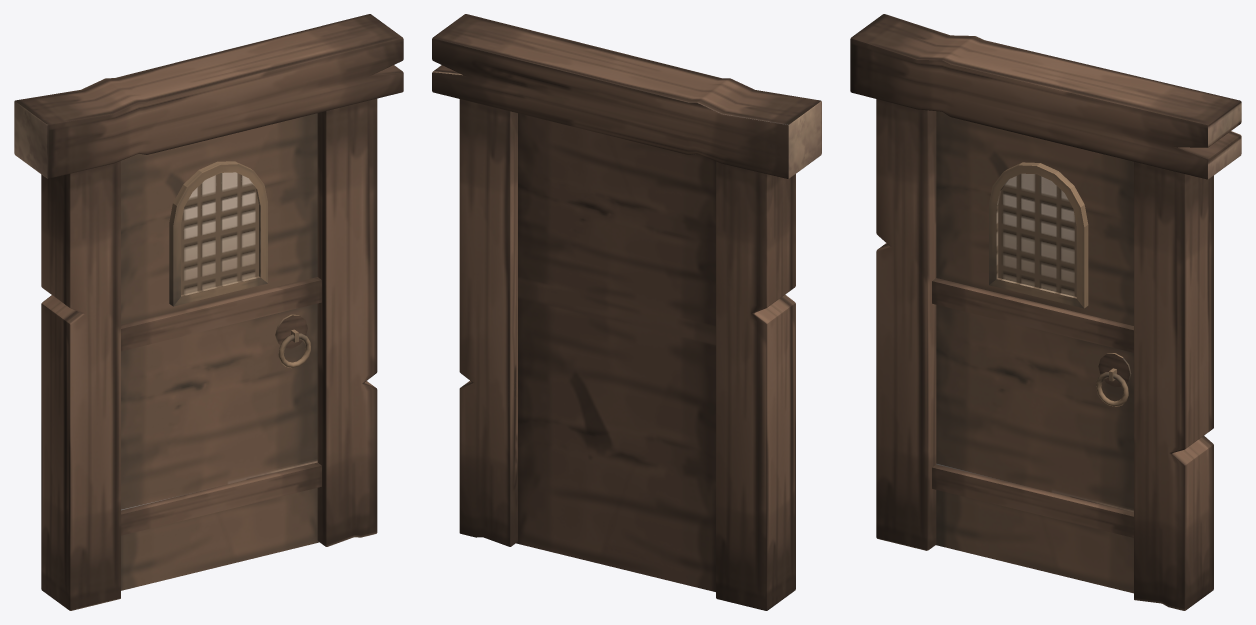
File: Door.FBX
3 views of the same model, side by side, from view 1: azimuth 30°, elevation 25°; view 2: azimuth 150°, elevation 25°; view 3: azimuth 330°, elevation 25° (orthographic).
Visible parts, largest first — view 1: Door_Wood_Low; view 2: Door_Wood_Low; view 3: Door_Wood_Low.
Part boxes in pixels (x1,y1,x2,y2): Door_Wood_Low: (14,14,403,610); Door_Wood_Low: (432,14,821,610); Door_Wood_Low: (850,14,1241,610).
Size of the model in its own units: 250 by 331 by 40.89.
